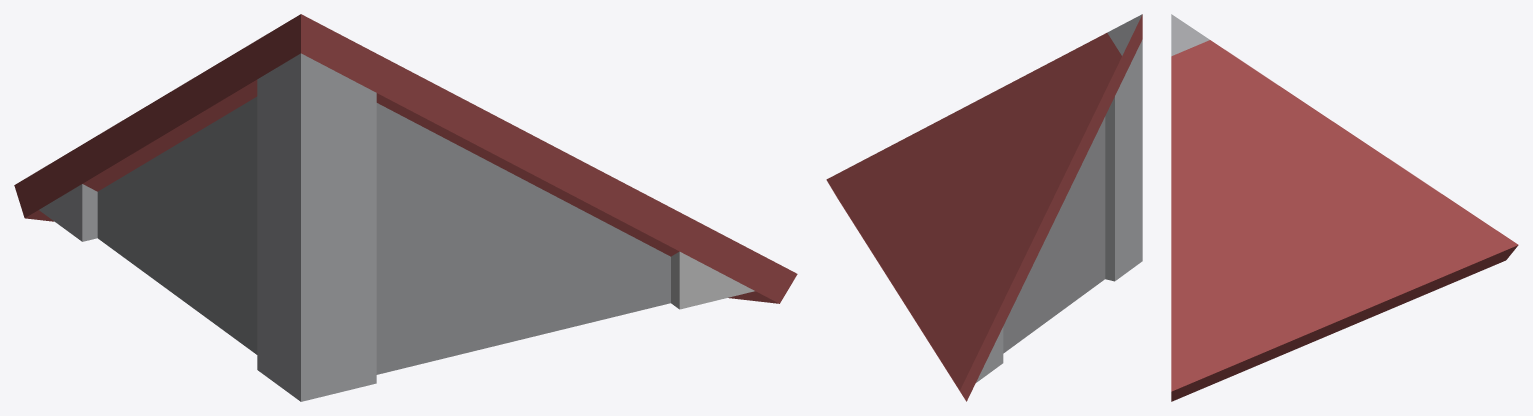
The model's file is Roof_Corner_Red_01.obj.
3 renders of one model, left to right at view 1: azimuth 30°, elevation 25°; view 2: azimuth 150°, elevation 25°; view 3: azimuth 270°, elevation 25°, orthographic. The views are drawn at different scales.
Visible parts, largest first — view 1: Mesh1_Roof_Corner_Red_Model; view 2: Mesh1_Roof_Corner_Red_Model; view 3: Mesh1_Roof_Corner_Red_Model.
Part boxes in pixels (x1,y1,x2,y2): Mesh1_Roof_Corner_Red_Model: (14,14,797,401); Mesh1_Roof_Corner_Red_Model: (826,14,1142,401); Mesh1_Roof_Corner_Red_Model: (1171,14,1518,401).
Size of the model in its own units: 3.28 by 2.57 by 3.28.
